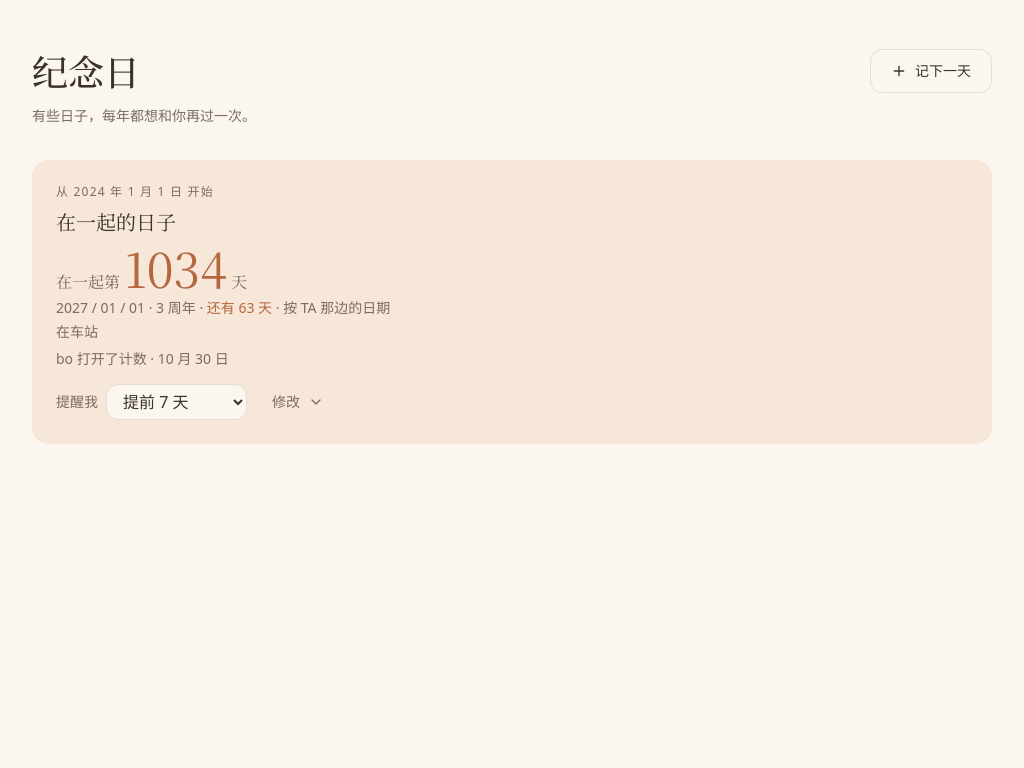
AnniversariesPage › folds the shared changes under "修改", the reminder beside it
Expected: the dropdown labelled "提醒我" is shown, [106,384,247,420]
What coordinates should you click on to do the following:
click the button "修改"
I would click on:
 (298, 402)
Its box is [259,384,337,420].
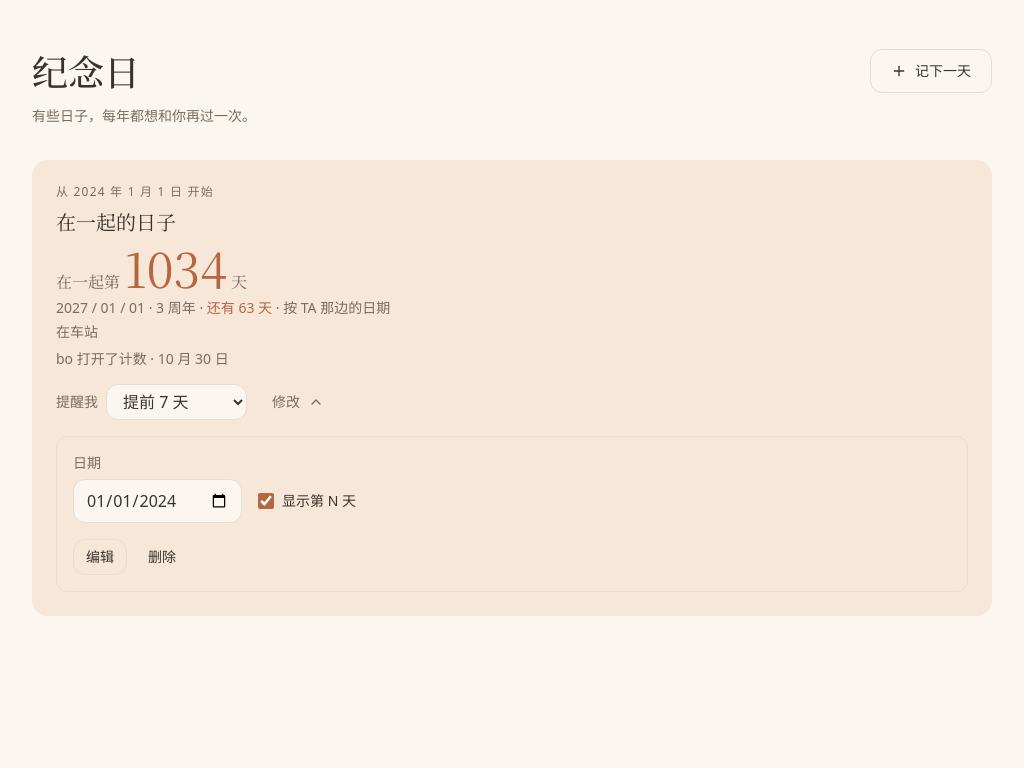
Expected: the button "修改" is expanded, [259,384,337,420]
Expected: the date field labelled "日期" is shown, [73,479,242,523]
Expected: the checkbox labelled "显示第 N 天" is shown, [258,493,274,509]
